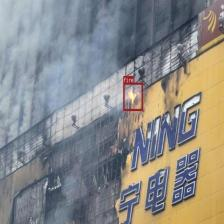fire: (123, 82, 143, 110)
